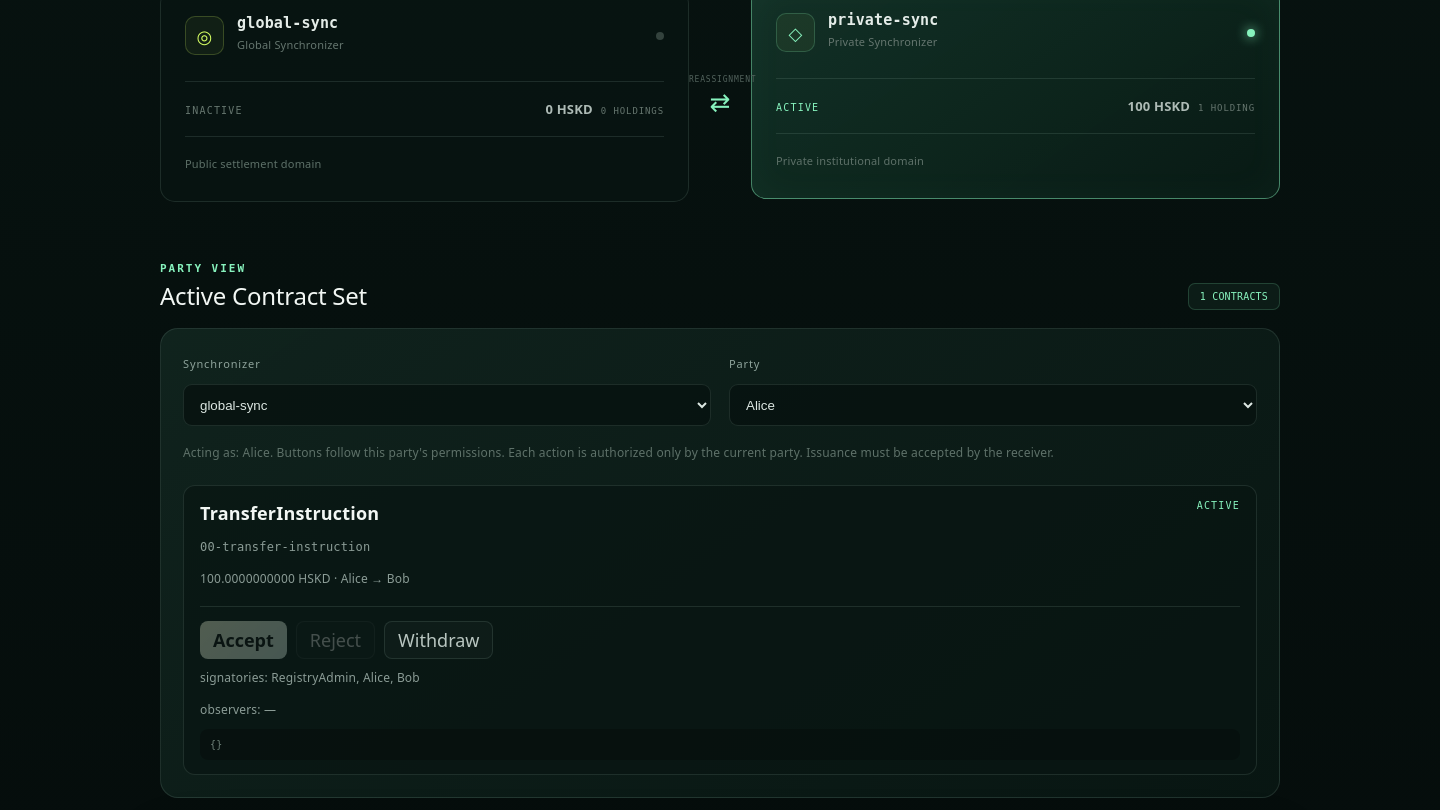
Test case: CIP-56 dashboard › enables accept and reject for receiver but withdraw for sender
(page scrolled)
Expected: the button "Withdraw" is enabled, [384,621,494,659]
Expected: the button "Accept" is disabled, [200,621,287,659]
Select "Bob" in the dropdown labelled "Party" at point(993, 406), box [729,384,1257,426]
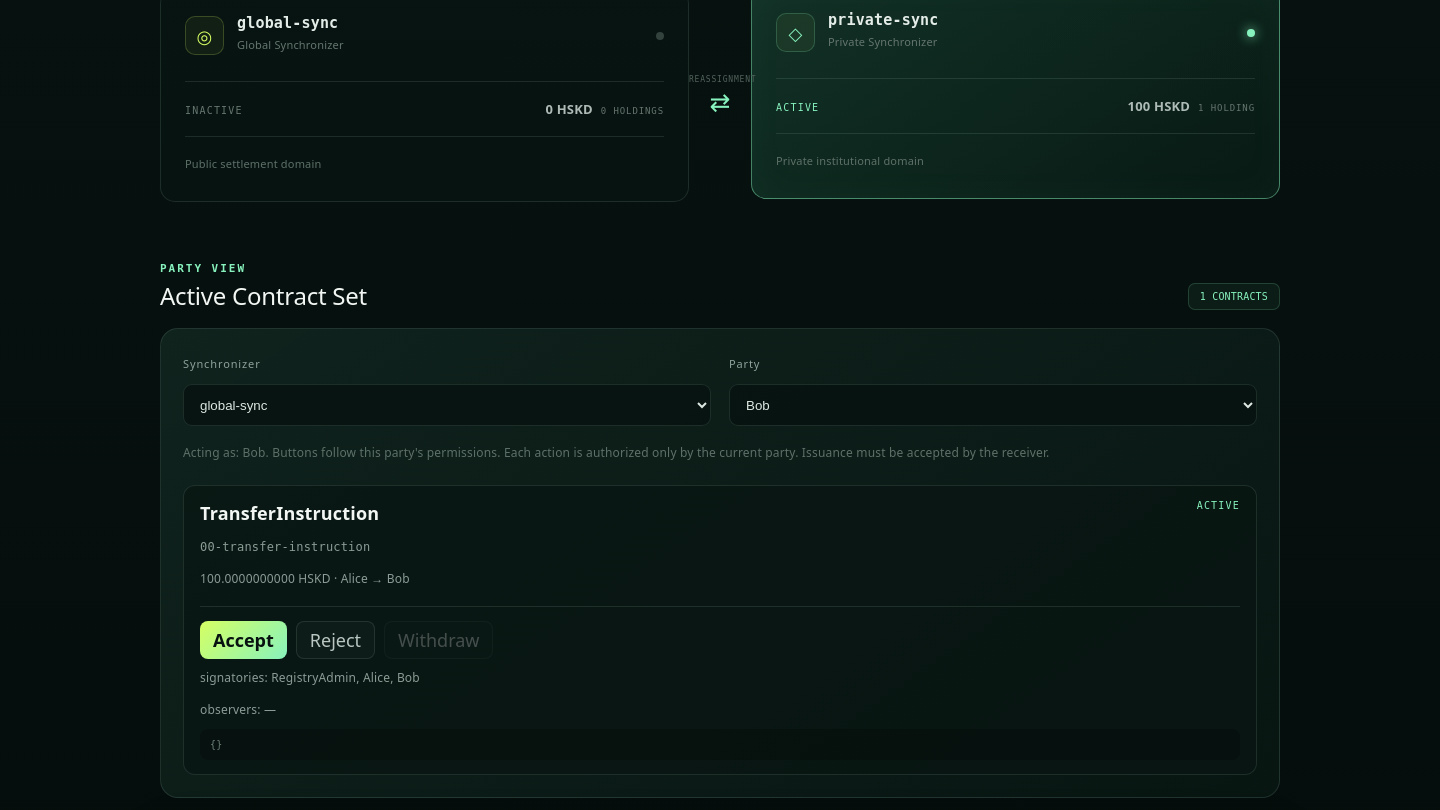
Result: the button "Accept" is enabled at [200,621,287,659]
Result: the button "Reject" is enabled at [296,621,375,659]
Result: the button "Withdraw" is disabled at [384,621,494,659]
